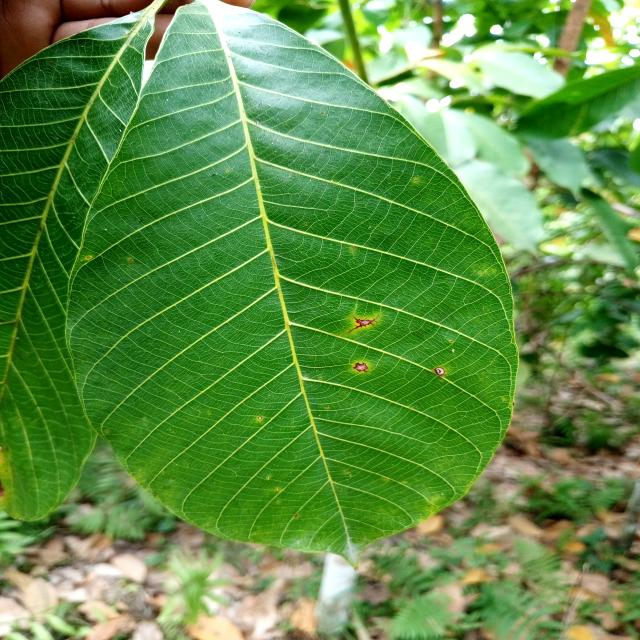Colletotrichum: (434, 367, 444, 376), (258, 416, 262, 420), (414, 180, 418, 182), (352, 247, 354, 250)
Corynespora: (346, 315, 379, 333)
